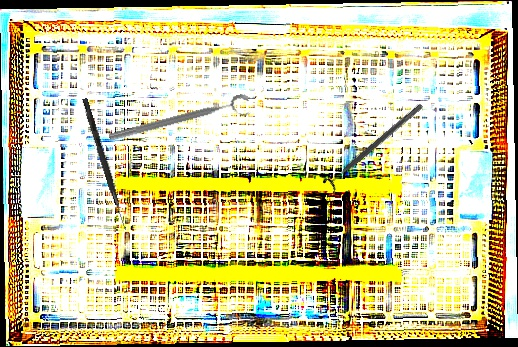Fixation Ring: (321, 98, 428, 195), (107, 92, 253, 153)
Hook Surgical: (80, 97, 130, 232)
